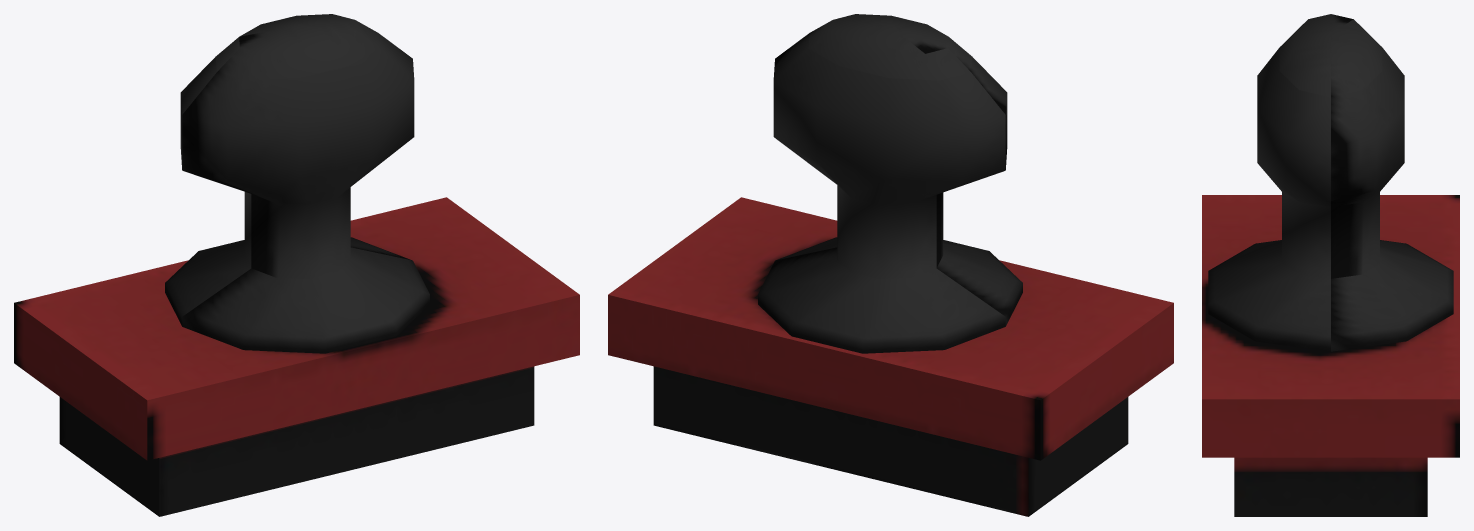
Rendered from Stamp.FBX.
3 views of the same model, side by side, from view 1: azimuth 30°, elevation 25°; view 2: azimuth 150°, elevation 25°; view 3: azimuth 270°, elevation 25° (orthographic). The views are drawn at different scales.
Parts seen in each view (by area): view 1: Stamp; view 2: Stamp; view 3: Stamp.
Boxes of the visible parts, <box> form: Stamp: <box>14,14,579,516</box>; Stamp: <box>608,14,1173,516</box>; Stamp: <box>1202,14,1459,516</box>.
Bounding box in the file's own units: 15 × 13.53 × 8.
